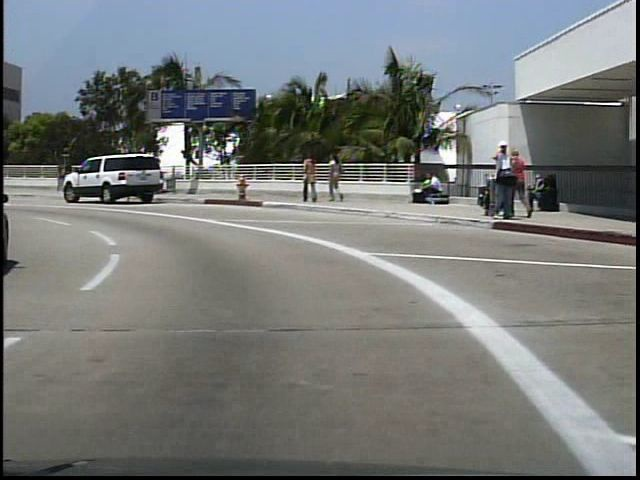person: (486, 137, 510, 223), (509, 145, 528, 222), (325, 152, 347, 207), (299, 148, 318, 206), (414, 172, 440, 207)
